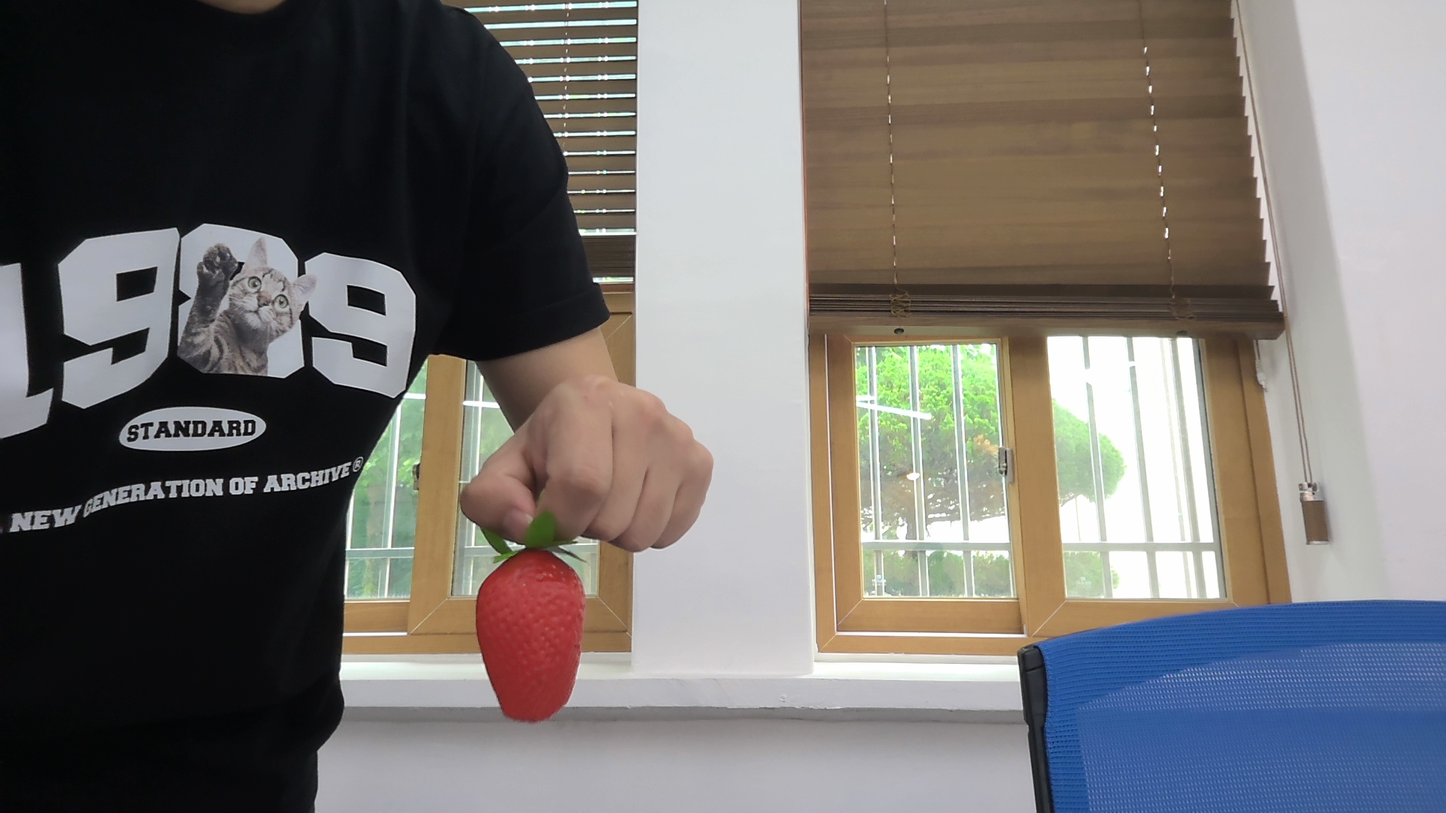strawberry: (463, 538, 598, 723)
